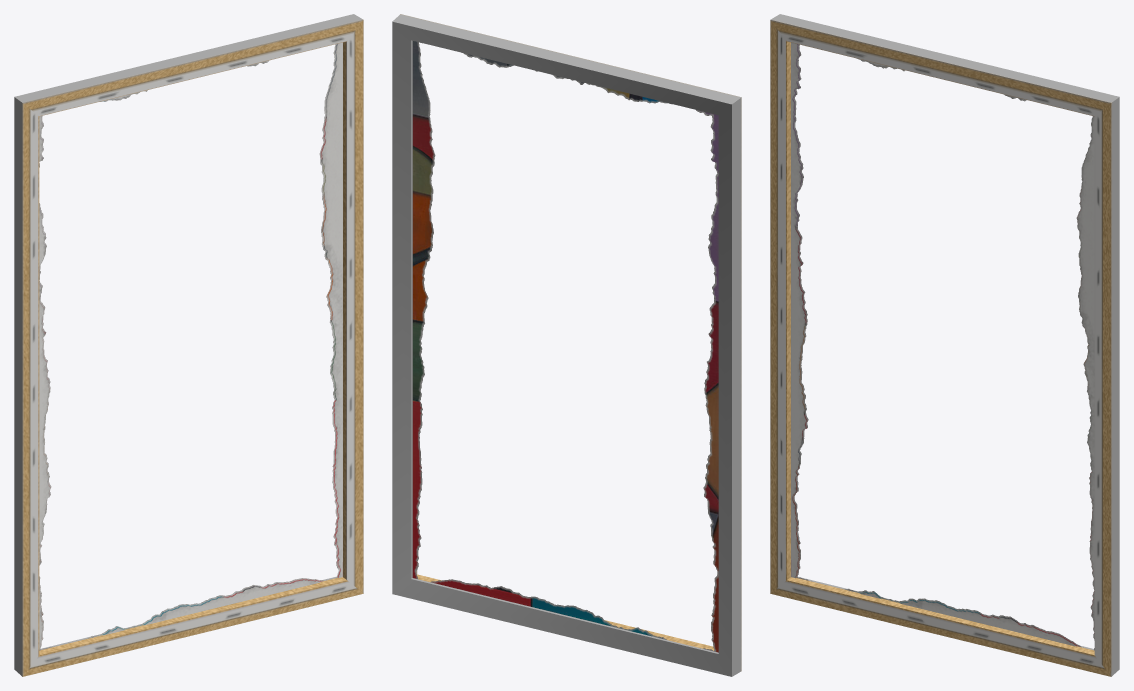
File: tornPainting.fbx
3 renders of one model, left to right at view 1: azimuth 30°, elevation 25°; view 2: azimuth 150°, elevation 25°; view 3: azimuth 330°, elevation 25°, orthographic.
Visible parts, largest first — view 1: paintingTorn; view 2: paintingTorn; view 3: paintingTorn.
Part boxes in pixels (x1,y1,x2,y2): paintingTorn: [14, 14, 363, 676]; paintingTorn: [392, 14, 741, 676]; paintingTorn: [770, 14, 1119, 676].
Bounding box in the file's own units: 0.675 × 1.09 × 0.0314.
Materials: 1 (1 with a texture image).
